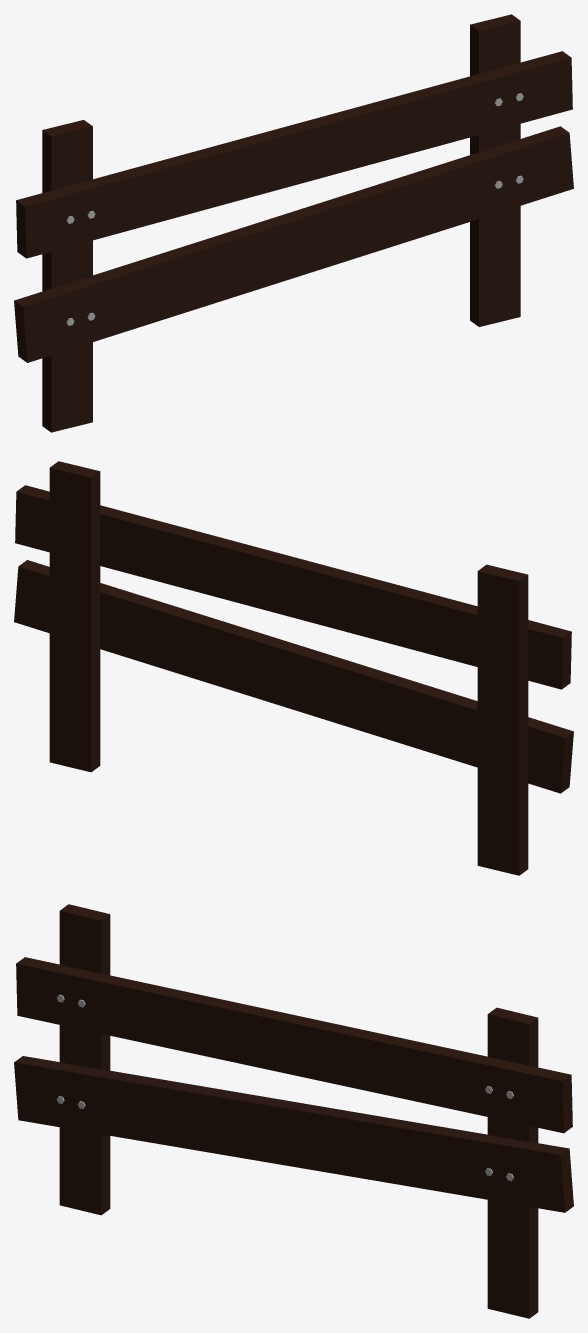
The model's file is fence1.obj.
3 renders of one model, top to bottom at view 1: azimuth 30°, elevation 25°; view 2: azimuth 150°, elevation 25°; view 3: azimuth 330°, elevation 25°, orthographic.
Visible parts, largest first — view 1: Fence2.001_Cube.053; view 2: Fence2.001_Cube.053; view 3: Fence2.001_Cube.053.
Boxes of the visible parts, x1,y1,x2,y2 form: Fence2.001_Cube.053: (14,14,573,432); Fence2.001_Cube.053: (14,461,573,875); Fence2.001_Cube.053: (14,904,573,1318).
Bounding box in the file's own units: 3.82 × 1.95 × 0.2363.
